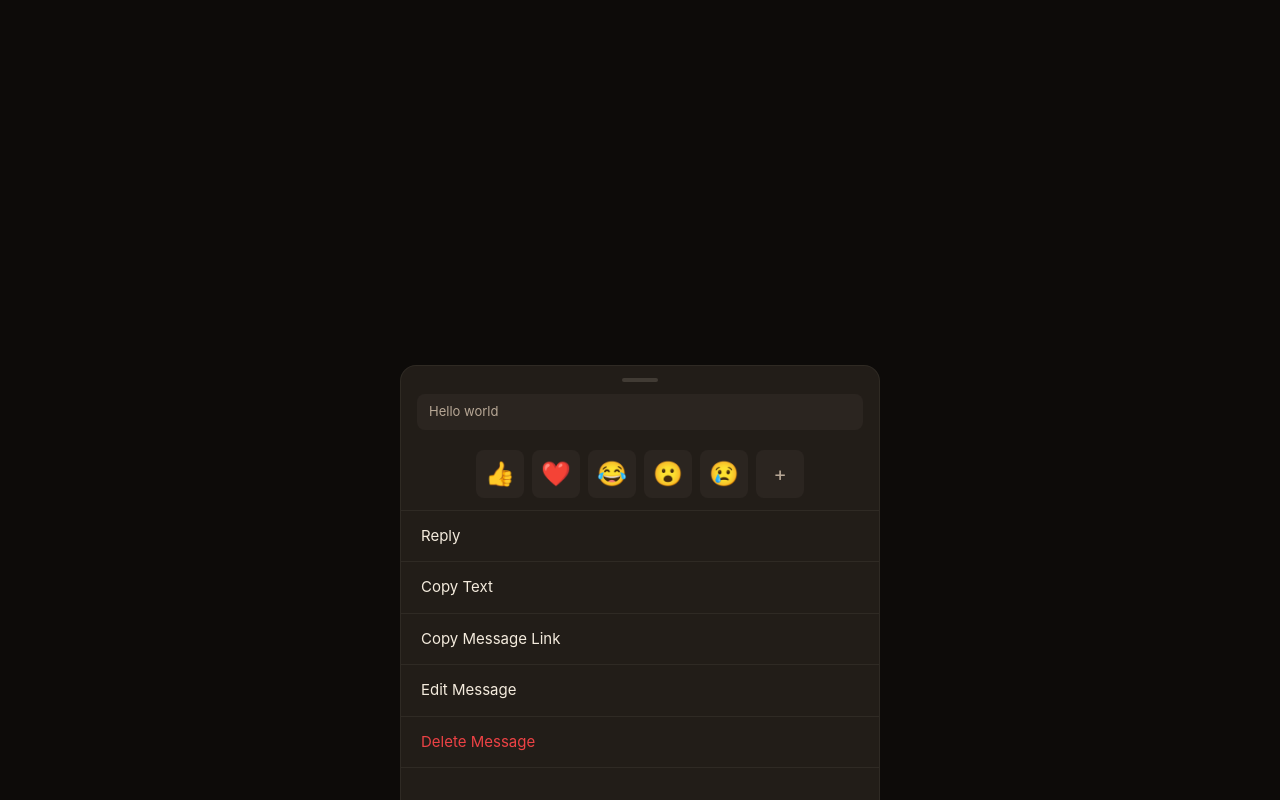
Test: MessageModal — delete confirmation › shows confirmation step when Delete clicked
The width and height of the screenshot is (1280, 800).
Click the button with test id "modal-action-delete". click: (478, 741)
box: [401, 716, 879, 768]
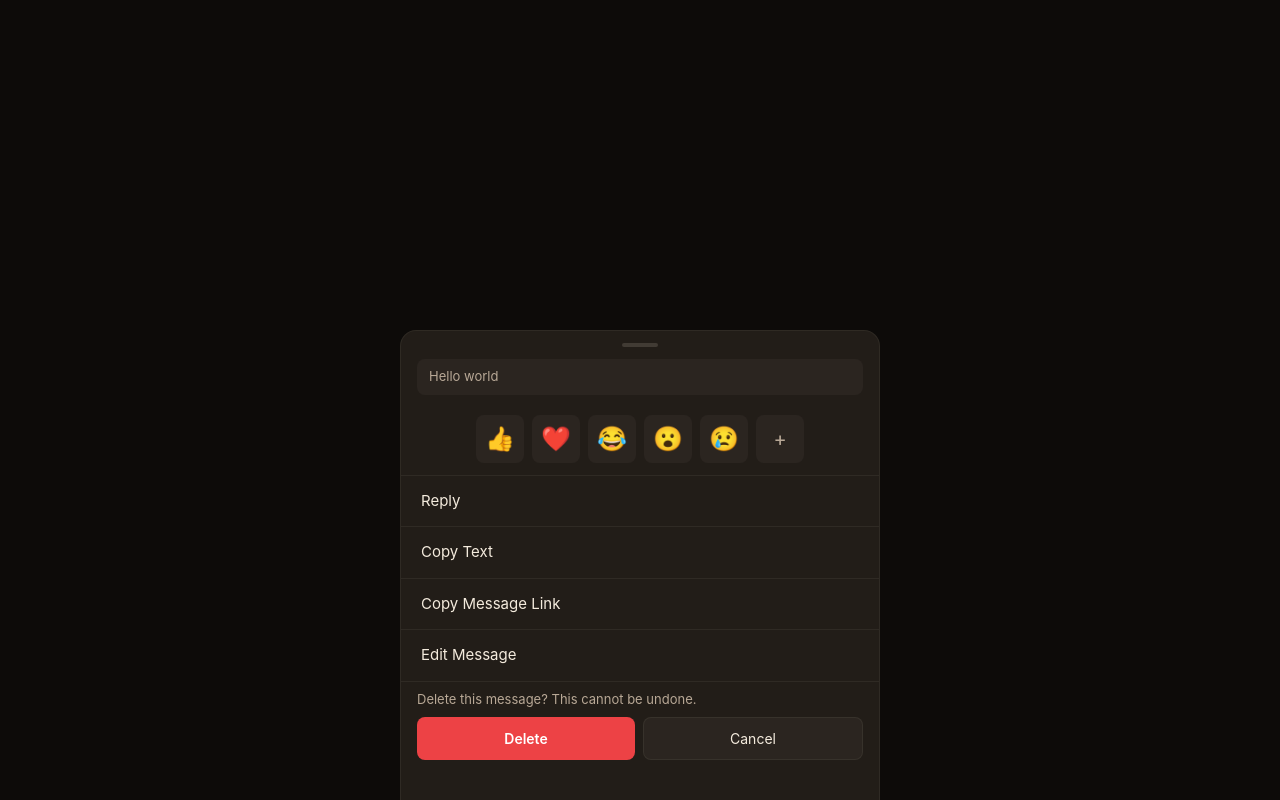
Result: the button with test id "modal-delete-confirm" is shown at [417, 717, 635, 760]
